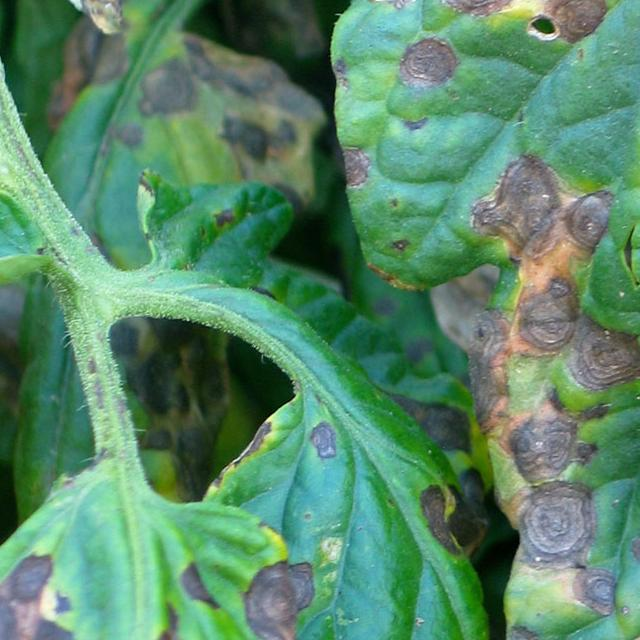Tomato Early blight leaf: (288, 0, 640, 640), (260, 382, 548, 640), (0, 464, 397, 640)
